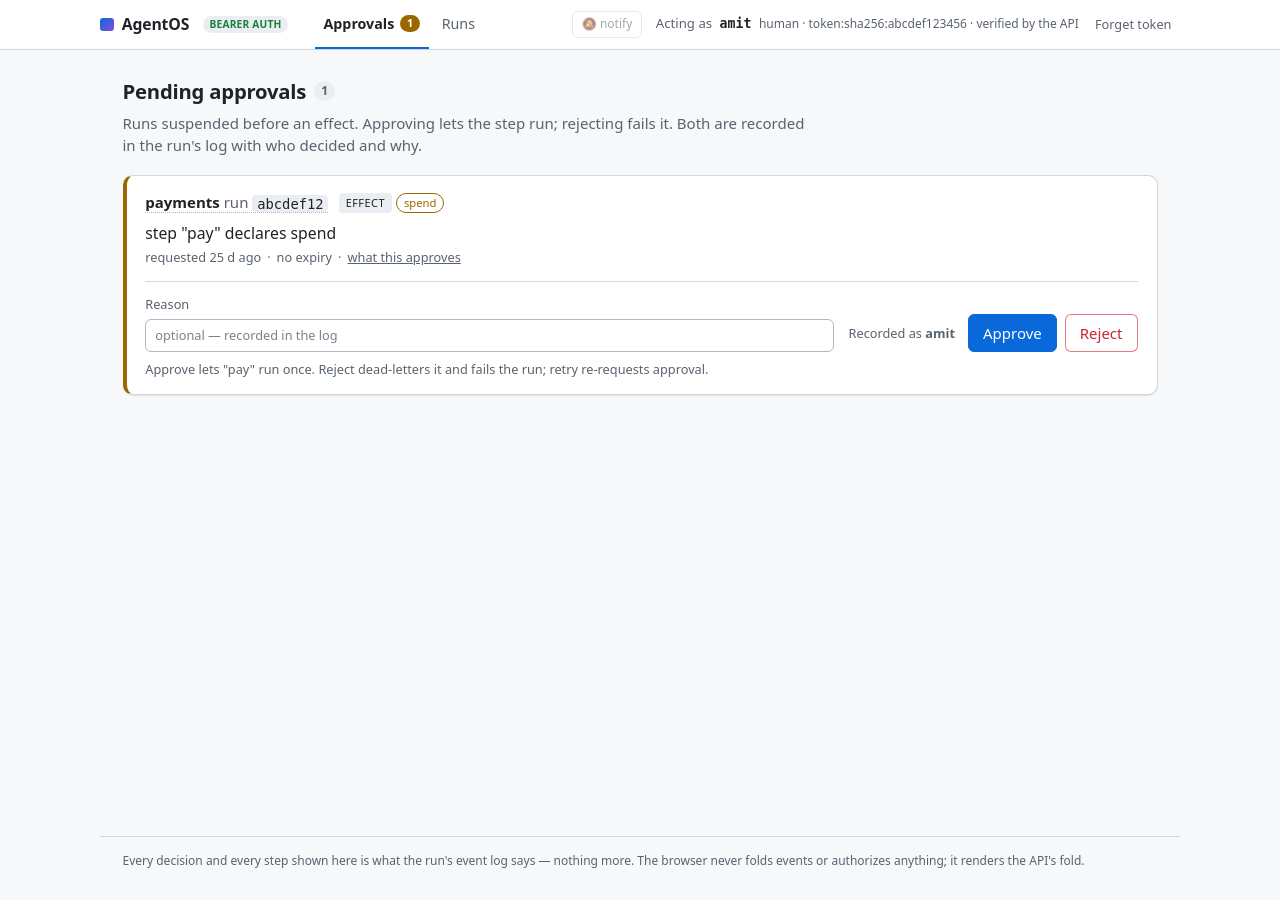
it: bearer mode › renders a 403 from the API verbatim and leaves the approval pending
The width and height of the screenshot is (1280, 900).
Click the button "Approve".
click(1012, 333)  # box [968,314,1057,352]
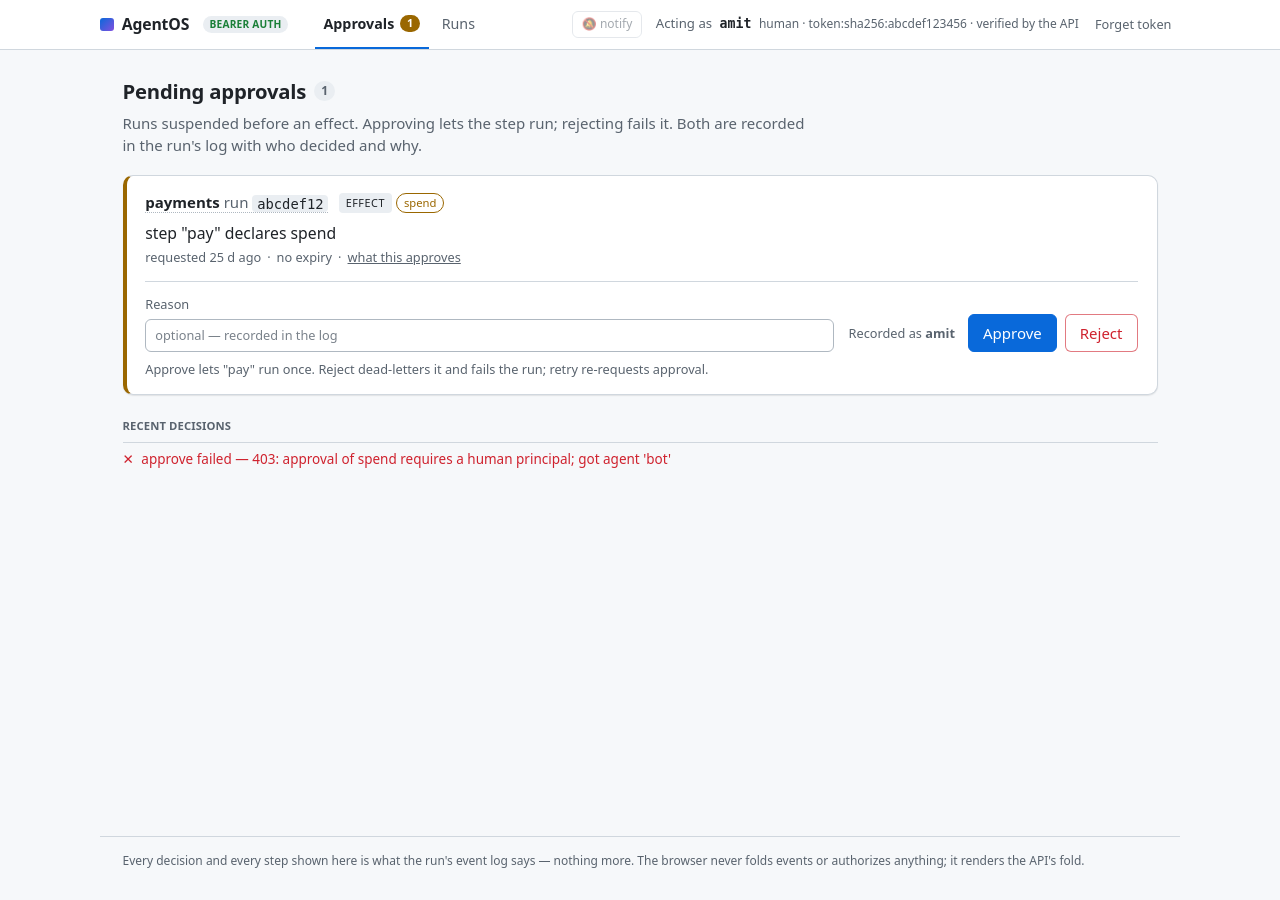
Expected: the list item shows "payments", [145,192,328,213]
Result: the 2nd message shows "approve failed — 403: approval of spend requires a human principal; got agent 'bot'" at [141,450,671,468]
